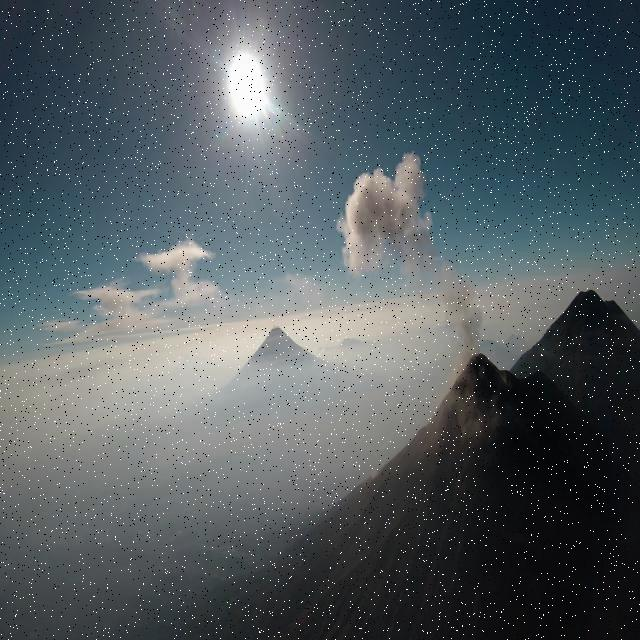Plume: (334, 146, 432, 283), (433, 255, 484, 348)
Summit: (440, 350, 570, 424)
